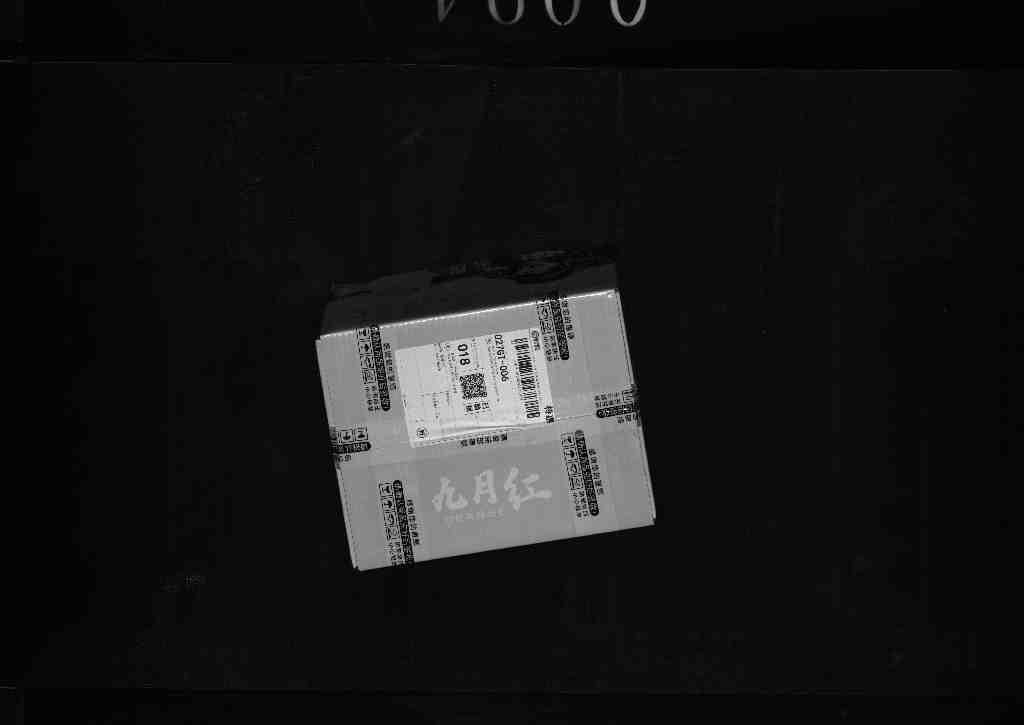box: (307, 265, 666, 580)
